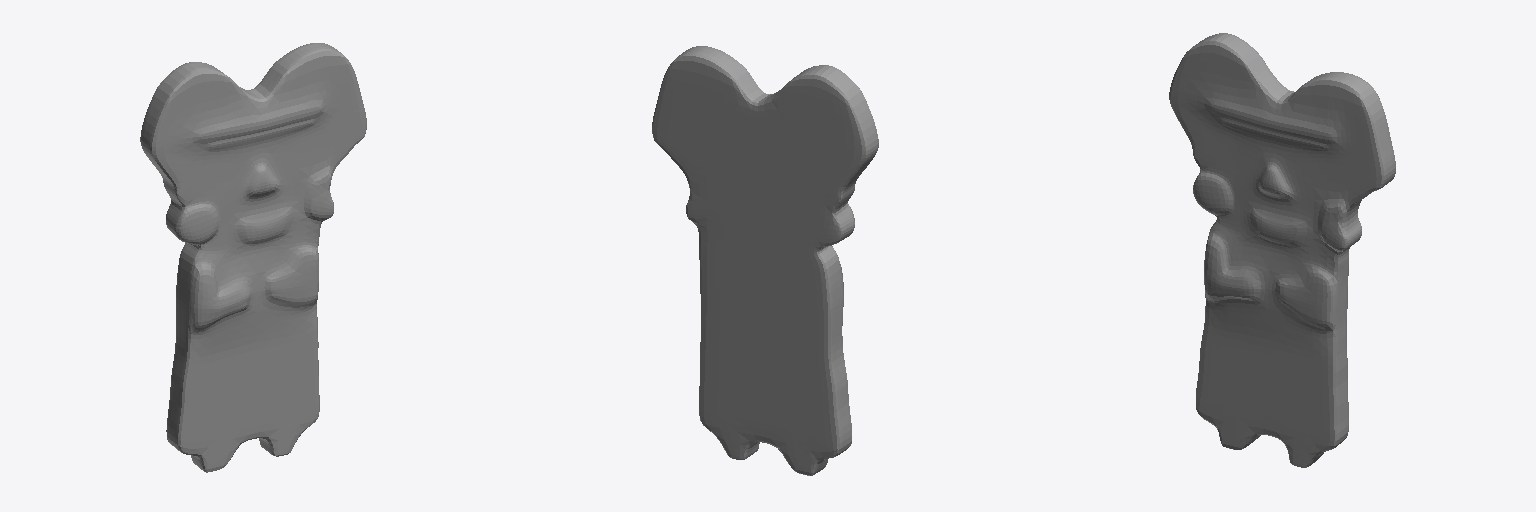
Rendered from TablillaMazapan.obj.
3 renders of one model, left to right at view 1: azimuth 30°, elevation 25°; view 2: azimuth 150°, elevation 25°; view 3: azimuth 330°, elevation 25°, orthographic.
Visible parts, largest first — view 1: TablillaMazapan; view 2: TablillaMazapan; view 3: TablillaMazapan.
Part boxes in pixels (left/top/right/bottom): TablillaMazapan: left=140, top=43, right=366, bottom=472; TablillaMazapan: left=652, top=46, right=878, bottom=475; TablillaMazapan: left=1169, top=33, right=1395, bottom=467.
Size of the model in its own units: 17.07 by 30.6 by 2.77.